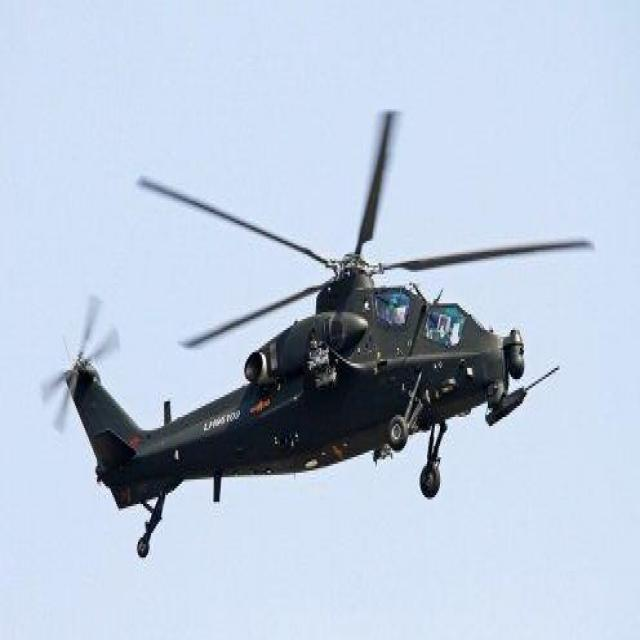MIL_HELO: (15, 96, 619, 558)
